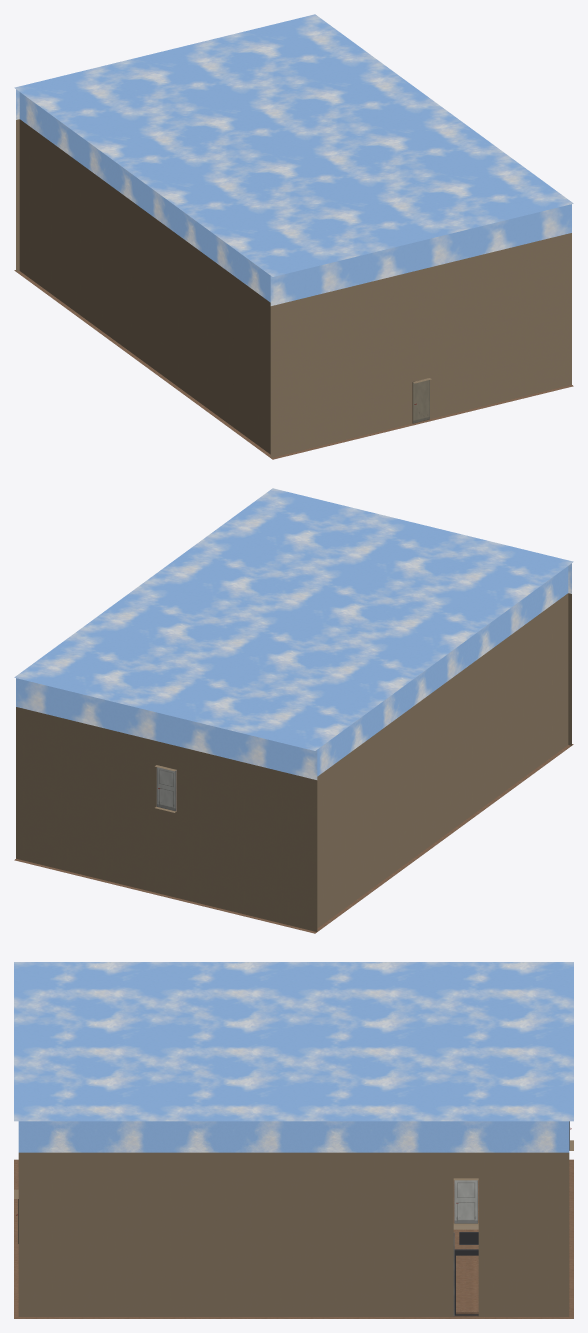
3 renders of one model, top to bottom at view 1: azimuth 30°, elevation 25°; view 2: azimuth 150°, elevation 25°; view 3: azimuth 270°, elevation 25°, orthographic. The views are drawn at different scales.
Parts seen in each view (by area): view 1: Sky_Glow, Wall_Plaster, Floor_Terrazzo, DoorLeaf_wing_entertainment; view 2: Sky_Glow, Wall_Plaster, Floor_Terrazzo, DoorLeaf_sky_hall_02; view 3: Sky_Glow, Wall_Plaster, Floor_Terrazzo, DoorLeaf_sky_hall_03, Metal_Dark.
Boxes of the visible parts, bbox=[...] form: Sky_Glow: bbox=[14, 14, 573, 305]; Wall_Plaster: bbox=[16, 119, 571, 457]; Floor_Terrazzo: bbox=[14, 270, 573, 459]; DoorLeaf_wing_entertainment: bbox=[412, 380, 429, 423]; Sky_Glow: bbox=[14, 488, 573, 779]; Wall_Plaster: bbox=[16, 593, 571, 931]; Floor_Terrazzo: bbox=[14, 744, 573, 933]; DoorLeaf_sky_hall_02: bbox=[157, 767, 176, 811]; Sky_Glow: bbox=[14, 962, 573, 1152]; Wall_Plaster: bbox=[14, 1140, 573, 1316]; Floor_Terrazzo: bbox=[14, 1159, 573, 1318]; DoorLeaf_sky_hall_03: bbox=[454, 1180, 477, 1223]; Metal_Dark: bbox=[454, 1232, 478, 1315].
Bounding box in the file's own units: 16.4 × 9.55 × 24.4.
Materials: 22 (14 with a texture image).
